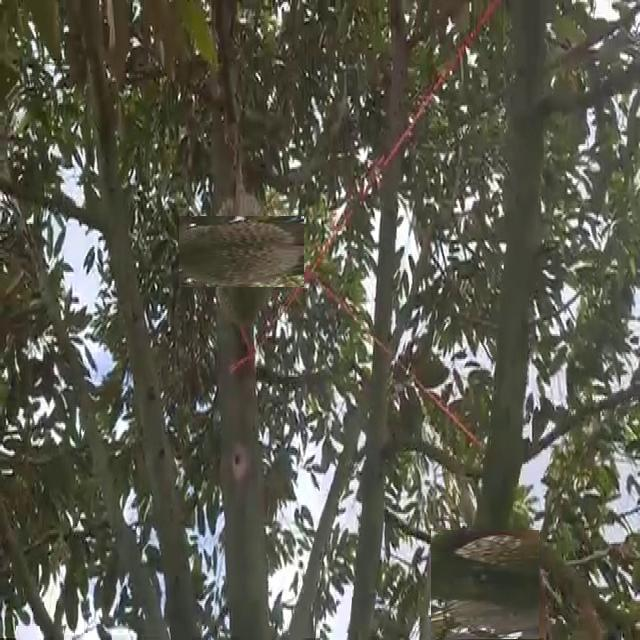durian: (431, 529, 539, 639), (192, 202, 291, 301)
